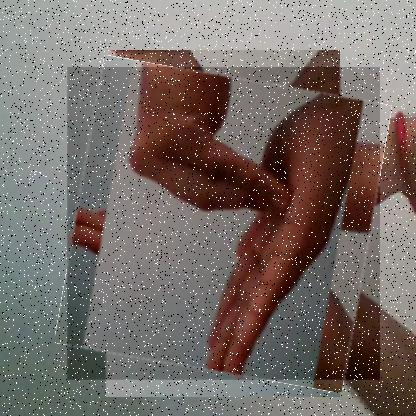Z: (66, 67, 380, 381)
